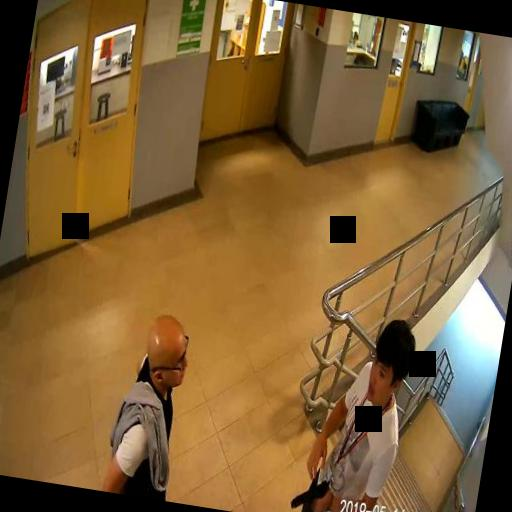Handgun: (288, 473, 329, 512)
